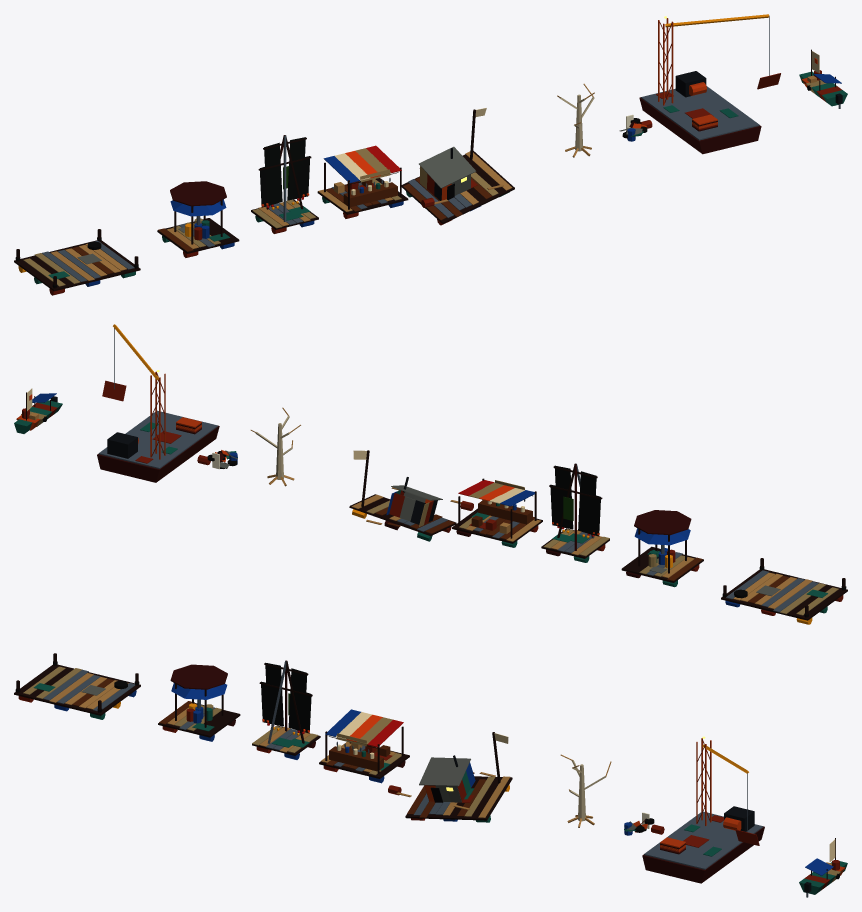
Rendered from tb_outpost_kit.three-web-toon.glb.
3 views of the same model, one above another, from view 1: azimuth 30°, elevation 25°; view 2: azimuth 150°, elevation 25°; view 3: azimuth 330°, elevation 25° (orthographic).
Visible parts, largest first — view 1: salvage_barge, sinking_platform, net_tower, pontoon, market_stall, rain_catcher, scrap_boat, dead_tree; view 2: salvage_barge, net_tower, pontoon, market_stall, rain_catcher, sinking_platform, scrap_boat, dead_tree; view 3: salvage_barge, sinking_platform, net_tower, market_stall, pontoon, rain_catcher, scrap_boat, dead_tree, scrap_heap.
Boxes of the visible parts, box(x1,y1,x2,y2) form: salvage_barge: box(639, 14, 780, 154); sinking_platform: box(401, 108, 514, 225); net_tower: box(251, 135, 318, 233); pontoon: box(14, 229, 140, 295); market_stall: box(317, 145, 408, 218); rain_catcher: box(157, 181, 239, 257); scrap_boat: box(799, 49, 847, 108); dead_tree: box(557, 83, 594, 157); salvage_barge: box(97, 324, 219, 482); net_tower: box(541, 463, 609, 562); pontoon: box(721, 558, 847, 624); market_stall: box(452, 478, 542, 547); rain_catcher: box(621, 510, 703, 587); sinking_platform: box(349, 450, 473, 541); scrap_boat: box(14, 388, 62, 433); dead_tree: box(250, 407, 300, 486); salvage_barge: box(642, 736, 764, 883); sinking_platform: box(388, 732, 512, 822); net_tower: box(252, 660, 320, 759); market_stall: box(319, 709, 409, 783); pontoon: box(14, 653, 140, 719); rain_catcher: box(158, 664, 240, 741); scrap_boat: box(799, 838, 847, 897); dead_tree: box(560, 754, 611, 827); scrap_heap: box(624, 812, 664, 835).
Size of the model in its own units: 92.3 by 14.2 by 12.
